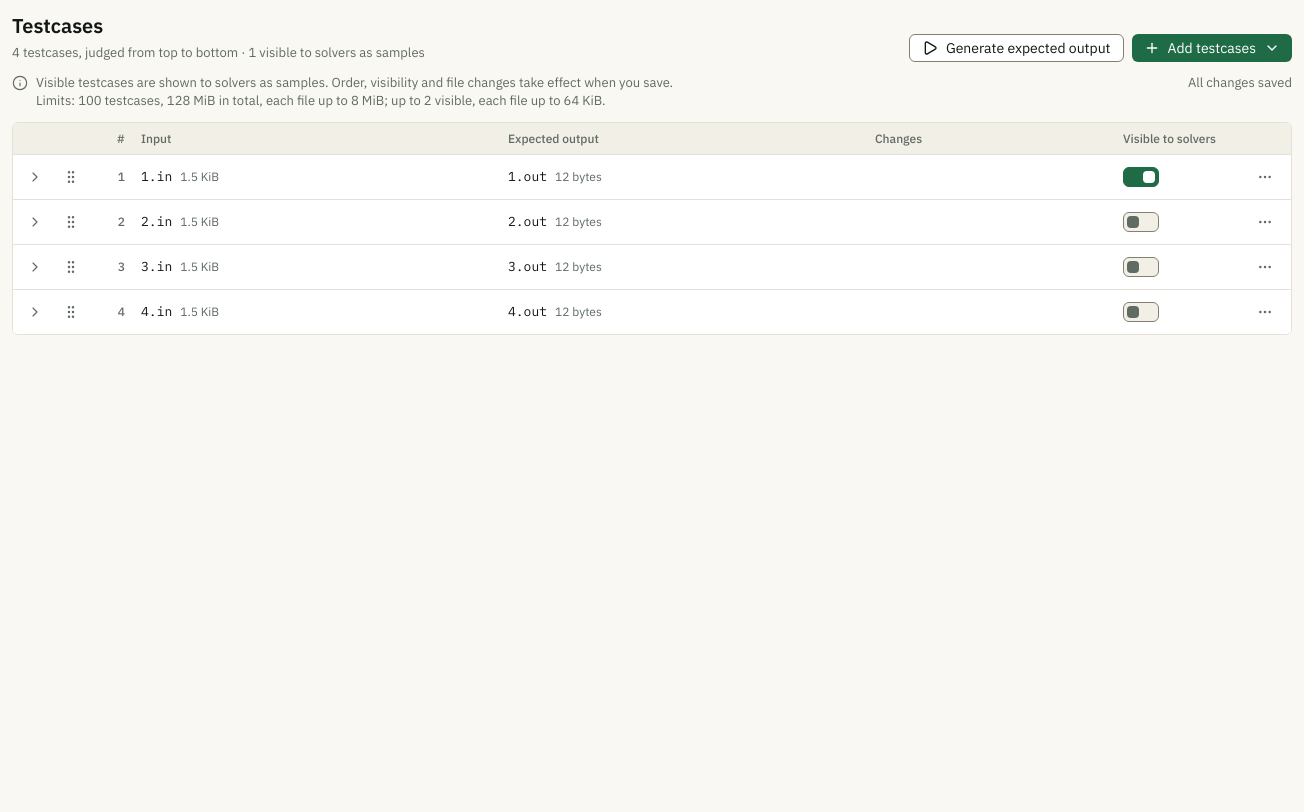
Scenario: the testcase list › opens a row to show the first 10 lines and offers View all and Open raw
Click the button named "Show files of testcase 1".
click(35, 177)  # box [21,163,49,191]
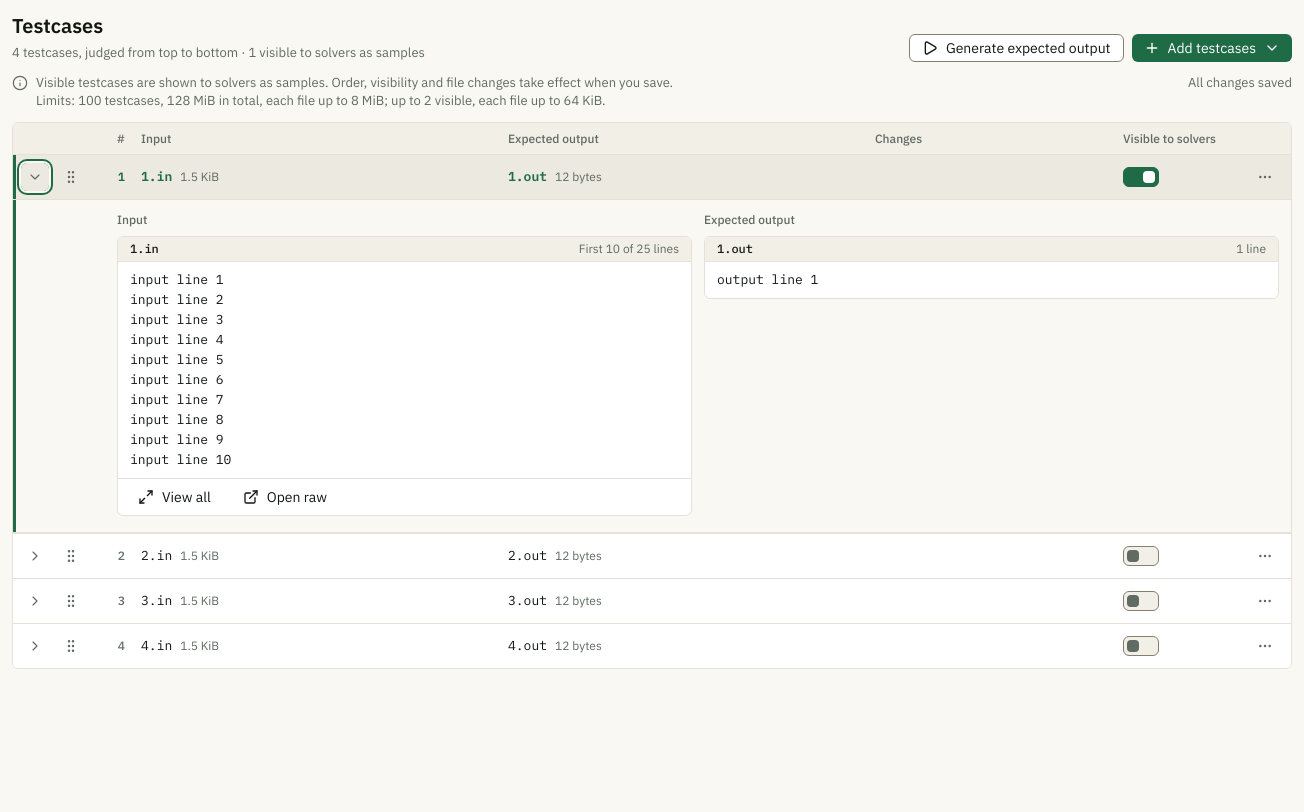
Expected: the text "First 10 of 25 lines" is shown, [579,241,679,257]
Expected: the text "input line 10" is shown, [130,271,231,468]
Expected: the text "1 line" is shown, [1236,241,1266,257]
Click the button named "Hide files of testcase 1".
click(35, 177)  # box [21,163,49,191]
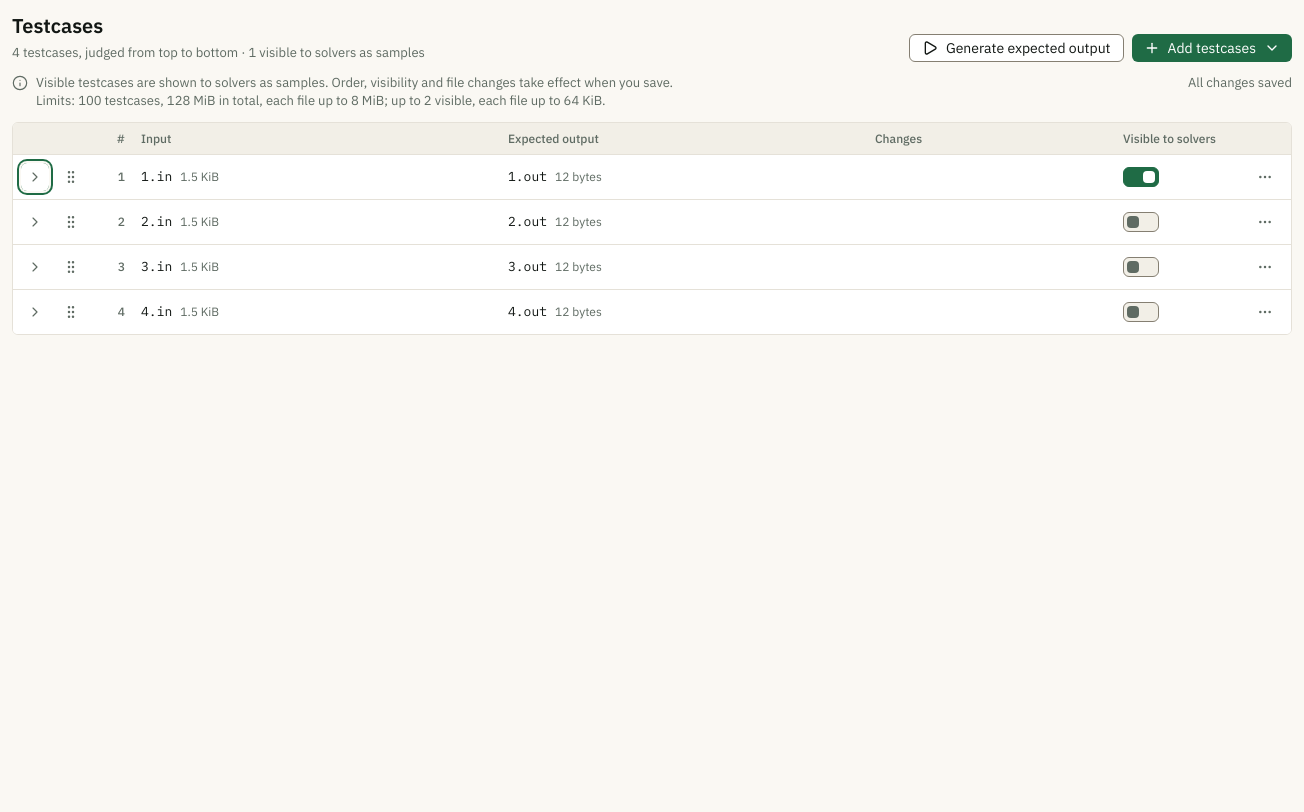
Expected: the text "First 10 of 25 lines" is gone
